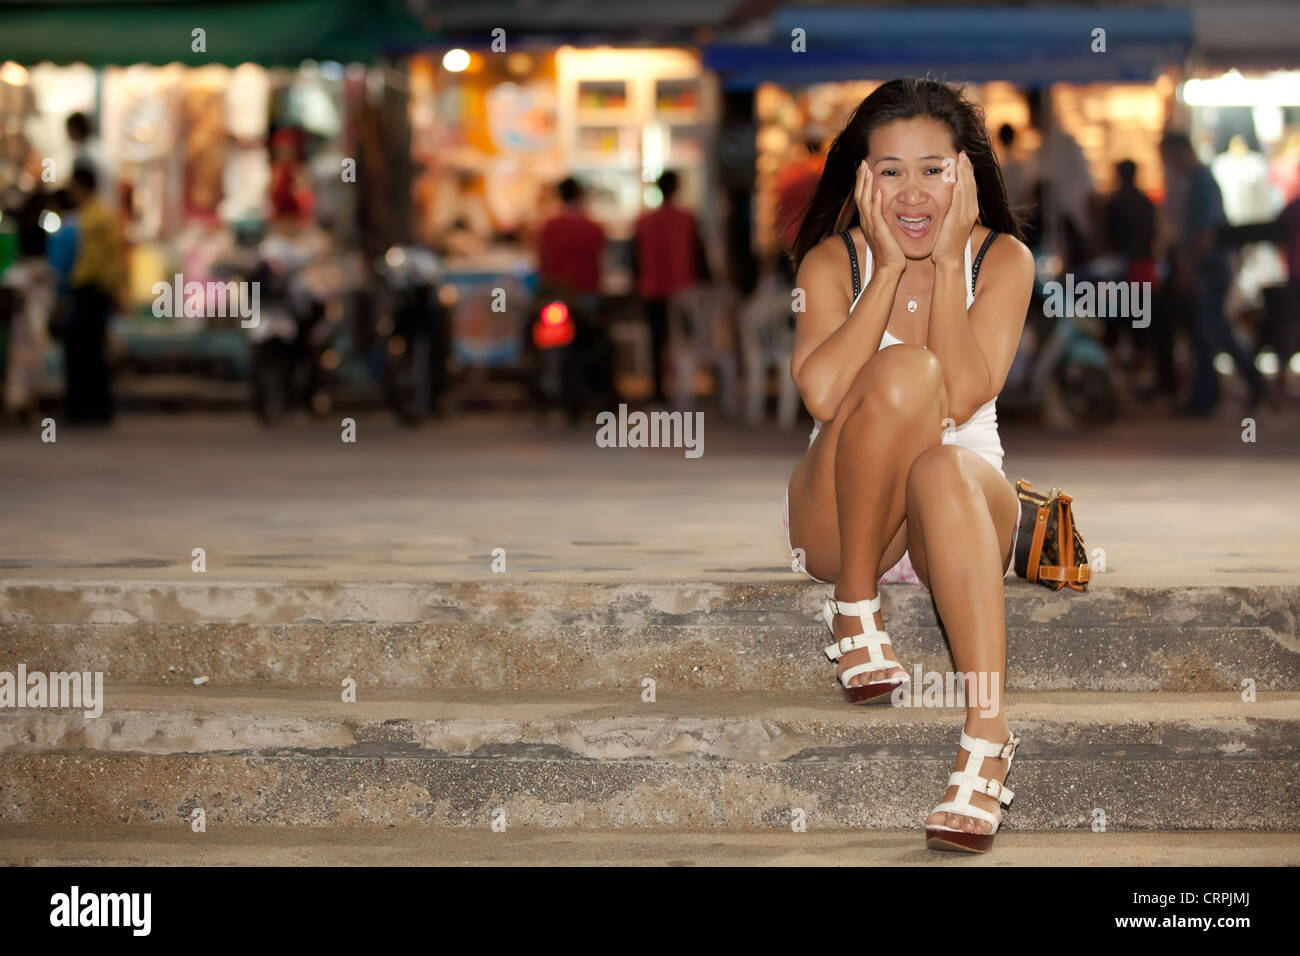person: (765, 67, 1062, 858)
